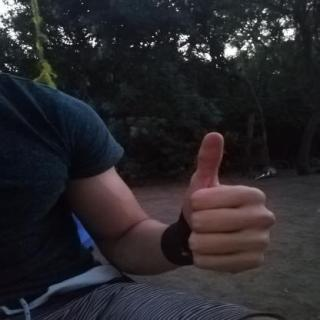ALIF: (170, 124, 286, 281)
